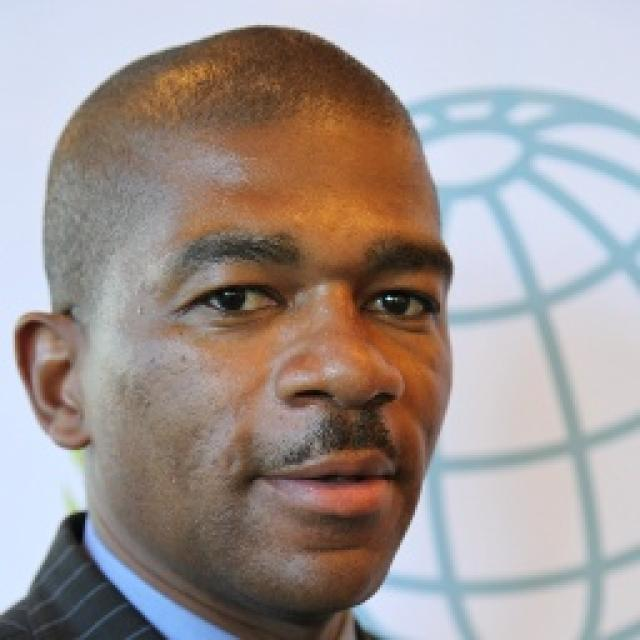earlobe: (52, 406, 90, 451)
eye: (197, 283, 282, 316), (364, 286, 436, 321)
nose: (279, 382, 418, 450)
wholeear: (12, 310, 90, 451)
